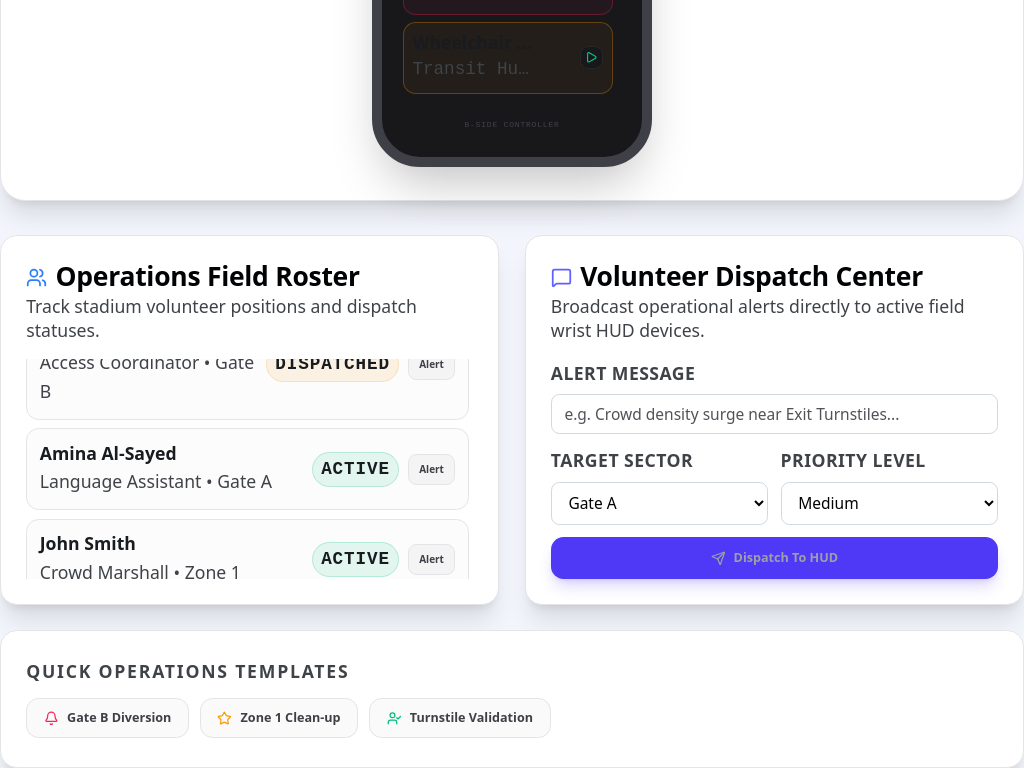
it: VolunteerHUD Unit Component › handles direct roster alert clicks
(page scrolled)
Click the button with aria-label "Send direct alert to Amina Al-Sayed" at (432, 469), box [408,454,456,485]
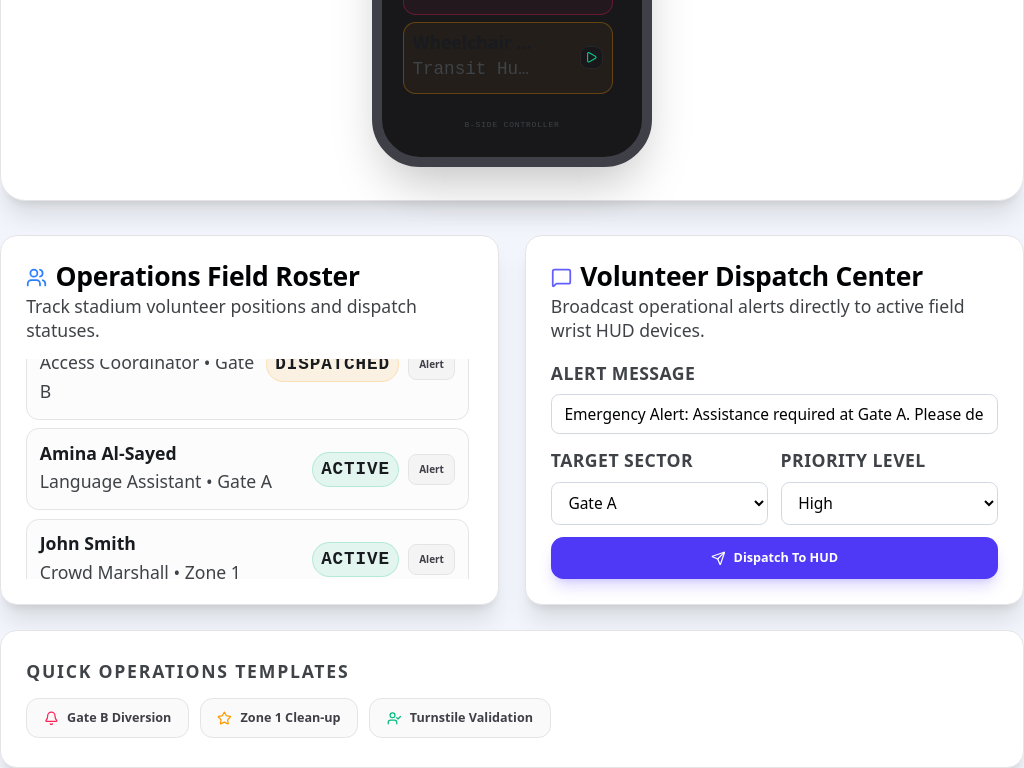
Expected: the field showing "Emergency Alert: Assistance required at Gate A. Please deploy." is shown, [551,394,998,434]
